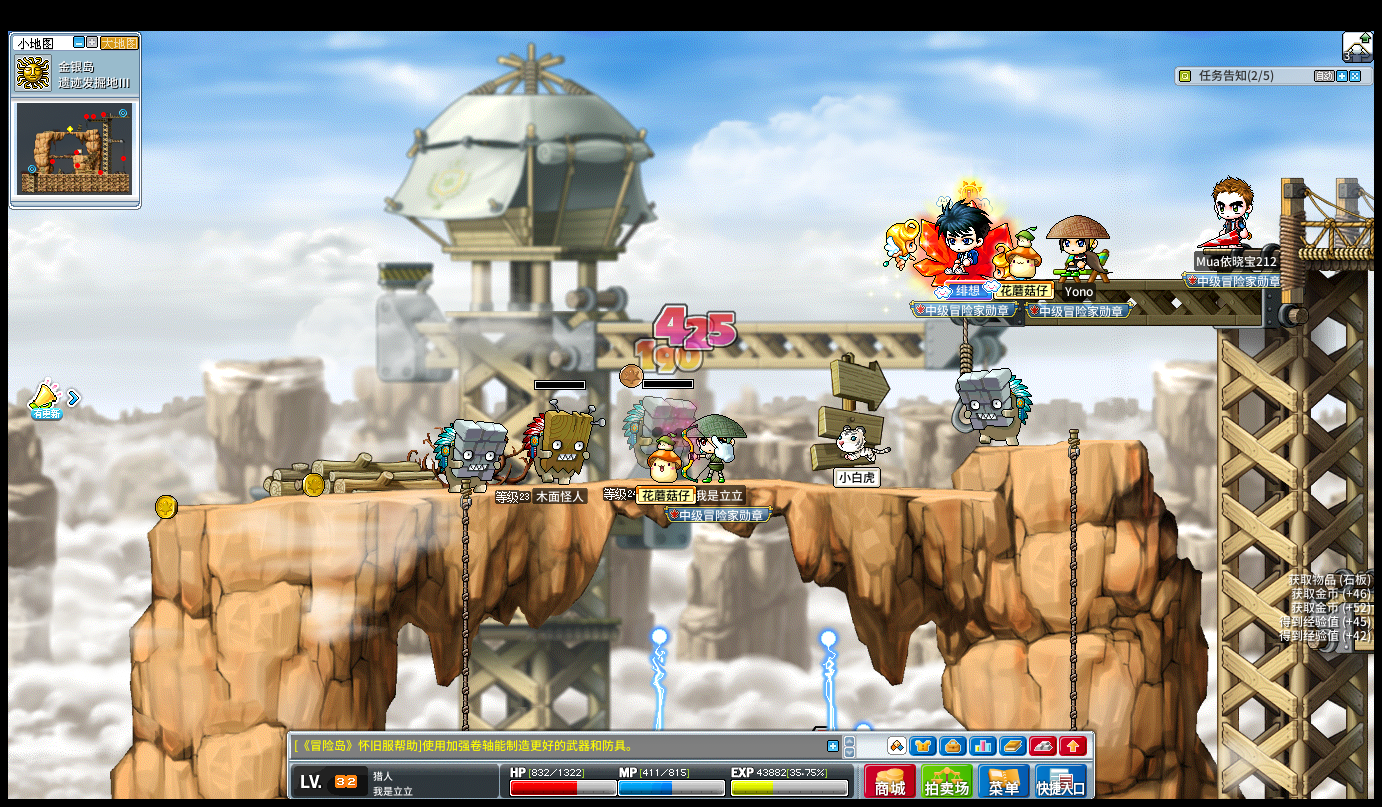floor: (157, 476, 976, 507), (155, 475, 1042, 494), (979, 434, 1145, 448), (976, 436, 1142, 450)
monster: (522, 402, 599, 483), (956, 367, 1033, 447), (622, 392, 697, 473), (434, 418, 506, 494)
rope: (1065, 426, 1080, 743), (458, 480, 472, 700)
